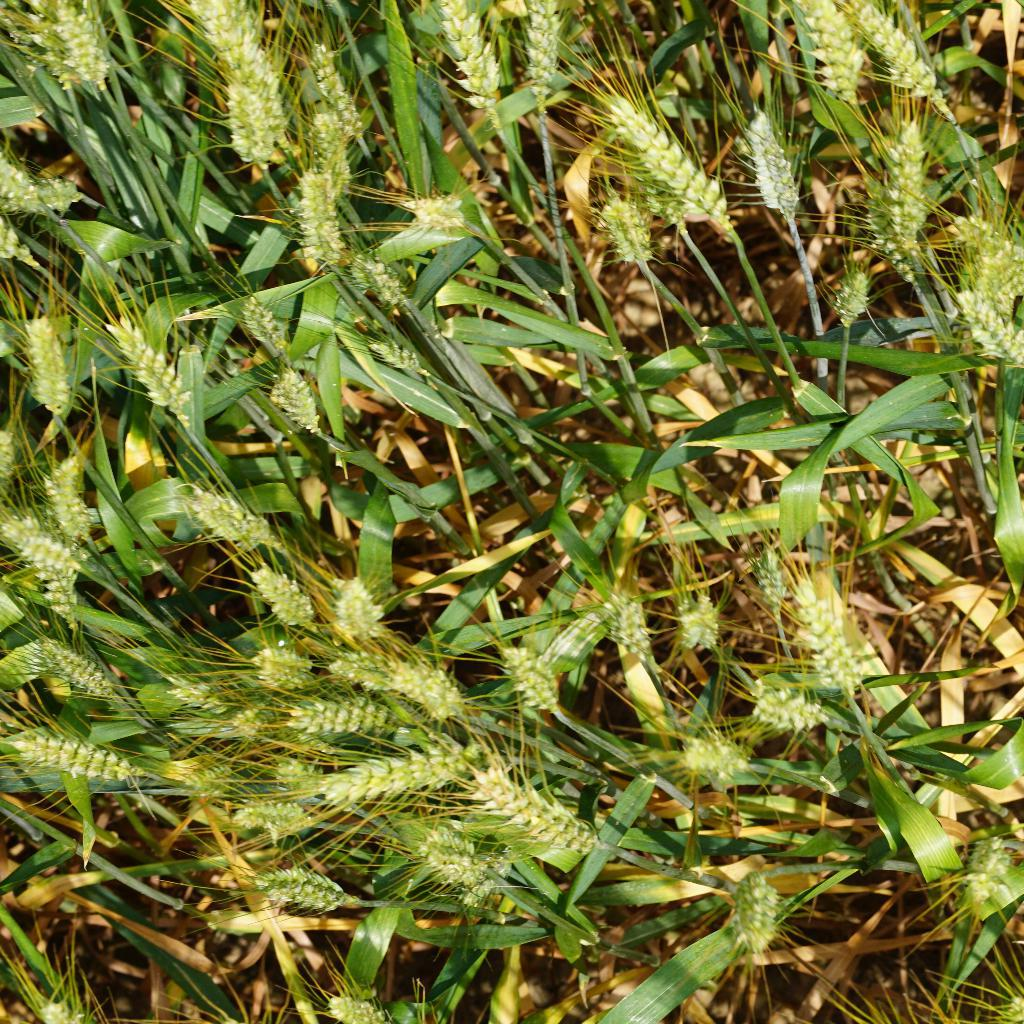0-0: (597, 92, 735, 245), (464, 757, 624, 863), (97, 299, 205, 443), (847, 0, 964, 120), (14, 729, 161, 806), (849, 112, 933, 246), (332, 645, 468, 724), (414, 0, 500, 124), (788, 582, 871, 706), (729, 92, 802, 230), (766, 0, 869, 97), (651, 717, 783, 792), (26, 0, 117, 104), (303, 748, 460, 807), (12, 302, 83, 428), (403, 821, 512, 901), (232, 858, 365, 920), (169, 482, 292, 549), (21, 627, 124, 703), (509, 0, 570, 127), (258, 347, 331, 452), (0, 147, 88, 234), (0, 499, 83, 591), (220, 64, 290, 171), (41, 449, 118, 545), (489, 627, 575, 712), (714, 863, 792, 956), (955, 201, 1024, 305), (296, 40, 369, 137), (191, 0, 279, 79), (740, 675, 841, 742), (654, 578, 728, 669), (586, 580, 662, 668), (335, 243, 410, 329), (598, 189, 668, 281), (277, 695, 397, 747), (316, 570, 399, 645), (380, 176, 466, 247), (957, 829, 1024, 919), (955, 279, 1024, 366), (246, 556, 324, 628), (292, 167, 342, 276), (626, 160, 691, 242), (228, 284, 291, 365), (737, 542, 798, 624), (160, 746, 238, 802), (306, 104, 357, 189), (320, 976, 408, 1024), (829, 266, 875, 350), (245, 638, 311, 691), (228, 796, 310, 838), (356, 335, 429, 380), (168, 668, 239, 714), (262, 751, 313, 796)
